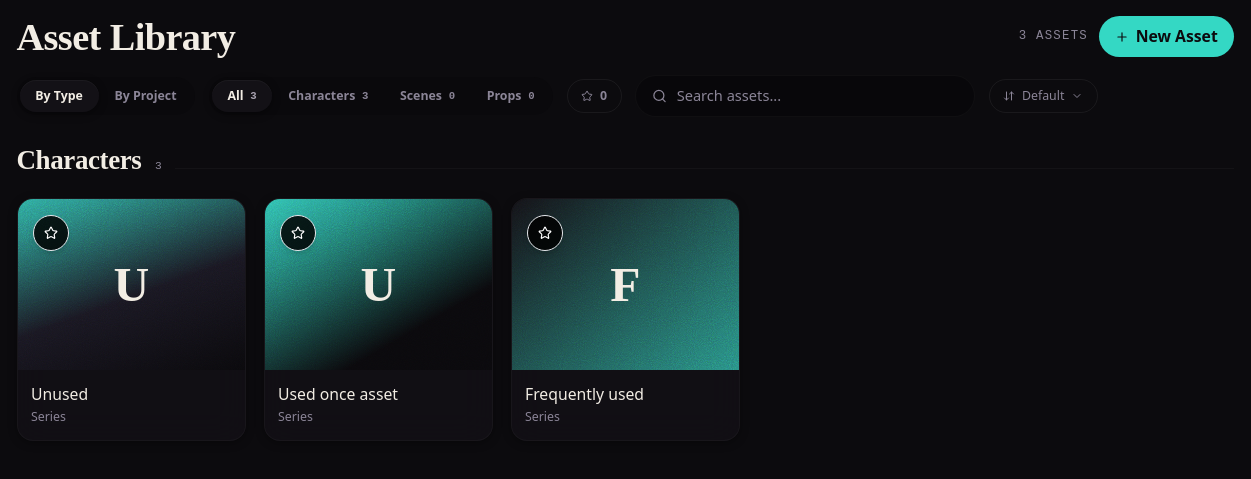
Scenario: Asset Library usage sorting › renders zero, singular, and plural usage labels on cards
This screenshot has width=1251, height=479.
Click the button with aria-label "Sort". click: click(1043, 96)
box: [989, 79, 1098, 113]
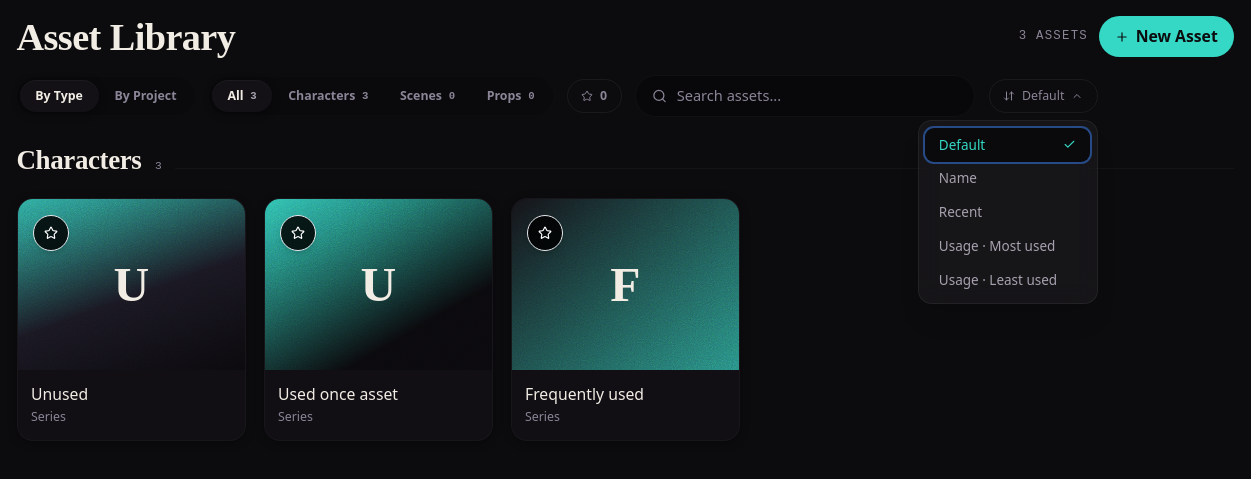
Click the option "Usage · Most used". click: click(1008, 246)
box: [925, 229, 1090, 263]
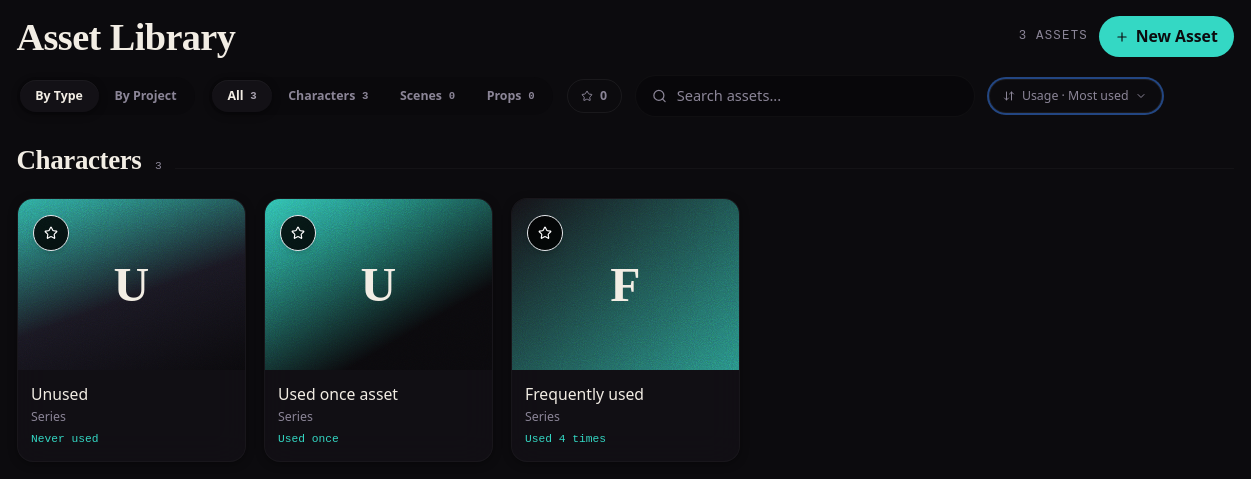
Expected: the text "Never used" is shown, [31, 433, 98, 445]
Expected: the text "Used once" is shown, [278, 433, 339, 445]
Expected: the text "Used 4 times" is shown, [525, 433, 606, 445]
